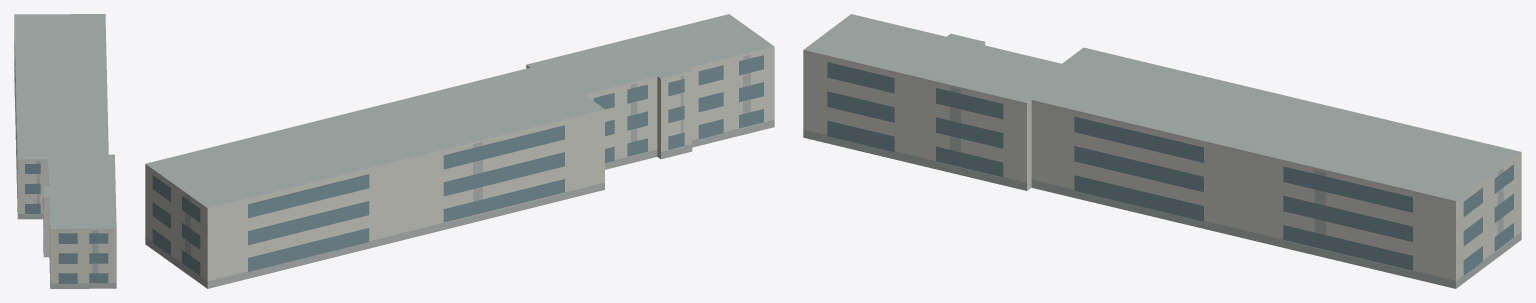
File: residential-6a303cc2-f6fc-456f-b77a-27b06c3d5568.glb
3 views of the same model, side by side, from view 1: azimuth 30°, elevation 25°; view 2: azimuth 150°, elevation 25°; view 3: azimuth 270°, elevation 25° (orthographic). The views are drawn at different scales.
Visible parts, largest first — view 1: residential-6a303cc2-f6fc-456f-b77a-27b06c3d5568.tmp; view 2: residential-6a303cc2-f6fc-456f-b77a-27b06c3d5568.tmp; view 3: residential-6a303cc2-f6fc-456f-b77a-27b06c3d5568.tmp.
Part boxes in pixels (x1,y1,x2,y2): residential-6a303cc2-f6fc-456f-b77a-27b06c3d5568.tmp: [14, 14, 116, 288]; residential-6a303cc2-f6fc-456f-b77a-27b06c3d5568.tmp: [145, 14, 774, 288]; residential-6a303cc2-f6fc-456f-b77a-27b06c3d5568.tmp: [803, 14, 1521, 288].
Size of the model in its own units: 41.78 by 9.15 by 67.78.
